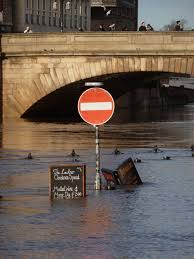No_entry: (77, 87, 115, 126)
